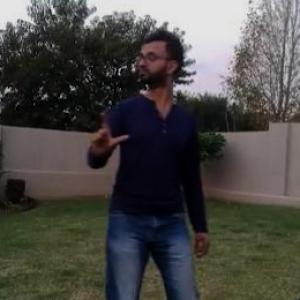land_hand: (82, 105, 130, 160)
